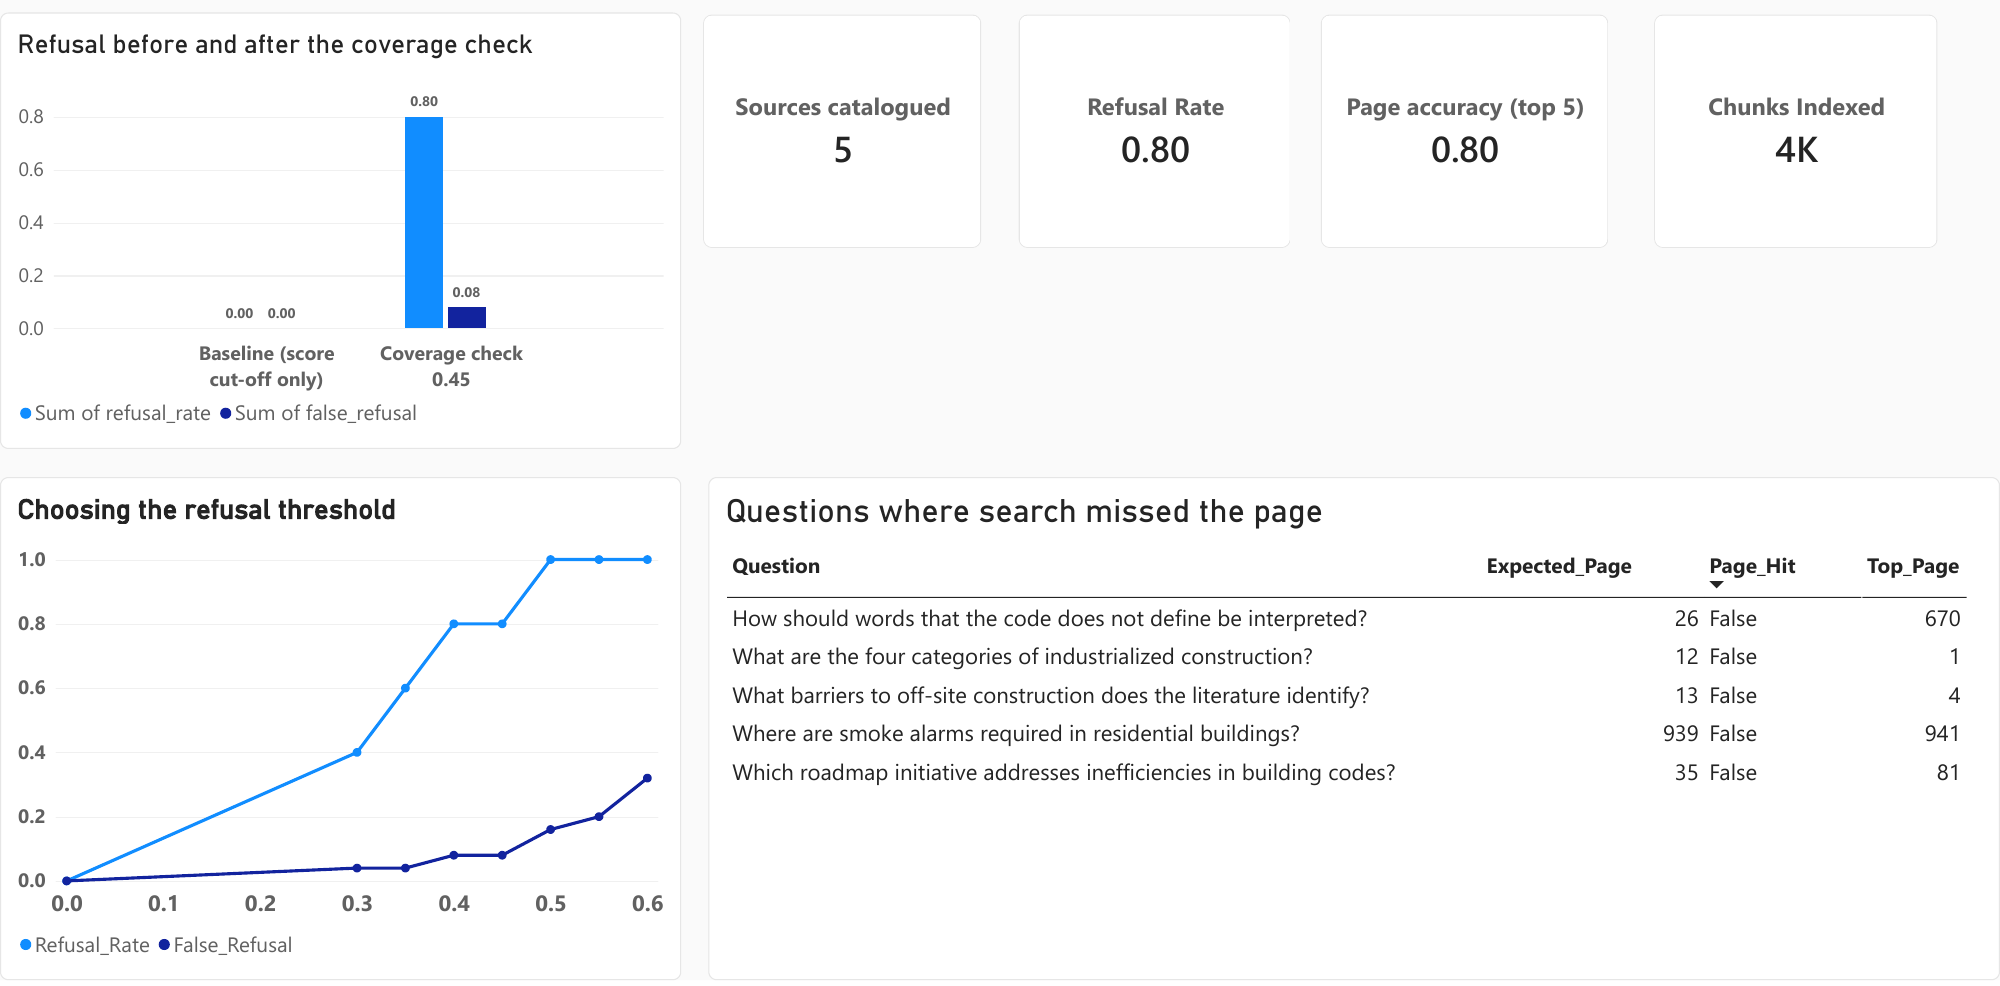

The page's visual inventory and layout, read from the dashboard file:
{"tool":"powerbi","page":{"name":"Page 1","canvas":[1920,1080],"ordinal":0},"visuals":[{"type":"clusteredColumnChart","title":"Refusal before and after the coverage check","fields":{"Category":["EvalVersions.version"],"Y":["Sum(EvalVersions.refusal_rate)","Sum(EvalVersions.false_refusal)"]},"box":[0,151,654.5,418.8],"z":0},{"type":"lineChart","title":"Choosing the refusal threshold","fields":{"Category":["ThresholdSweep.threshold"],"Y":["Sum(ThresholdSweep.refusal_rate)","Sum(ThresholdSweep.false_refusal)"]},"box":[0,597.3,654.5,482.9],"z":1},{"type":"cardVisual","fields":{"Data":["CountNonNull(Catalog.doc_id)"]},"box":[675.1,153.3,267.7,224.3],"z":2},{"type":"cardVisual","fields":{"Data":["Sum(Coverage.chunks)"]},"box":[1588.2,152.5,272.7,225],"z":3},{"type":"cardVisual","fields":{"Data":["Max(EvalVersions.page_hit_at_5)"]},"box":[1267.9,152.5,276.5,225],"z":4},{"type":"cardVisual","fields":{"Data":["Max(EvalVersions.refusal_rate)"]},"box":[978.1,152.5,261.2,225],"z":5},{"type":"tableEx","title":"Questions where search missed the page","fields":{"Values":["EvalResults.question","EvalResults.expected_page","EvalResults.page_hit","EvalResults.top_page"]},"box":[679.7,597.3,1240.3,482.9],"z":6},{"type":"textbox","box":[0,0,1616.8,133.5],"z":7},{"type":"actionButton","box":[0,0,100,40],"z":8}]}

Visuals, with their boxes on the page's 1920x1080 design canvas (x1, y1, x2, y2). These are canvas units, not pixel positions in the 2000x986 screenshot, which may show the page scaled, cropped or inside an application window:
"Refusal before and after the coverage check" clusteredColumnChart: 0,151,654,570
"Choosing the refusal threshold" lineChart: 0,597,654,1080
cardVisual - CountNonNull(Catalog.doc_id): 675,153,943,378
cardVisual - Sum(Coverage.chunks): 1588,152,1861,378
cardVisual - Max(EvalVersions.page_hit_at_5): 1268,152,1544,378
cardVisual - Max(EvalVersions.refusal_rate): 978,152,1239,378
"Questions where search missed the page" tableEx: 680,597,1920,1080
textbox: 0,0,1617,134
actionButton: 0,0,100,40
